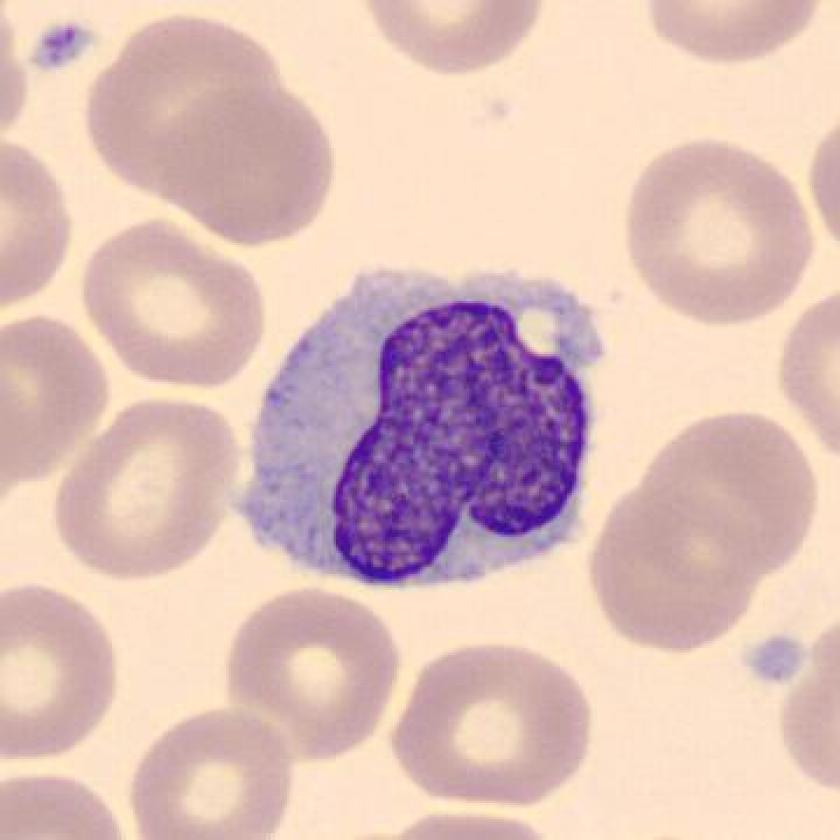monocyte: (220, 247, 636, 617)
